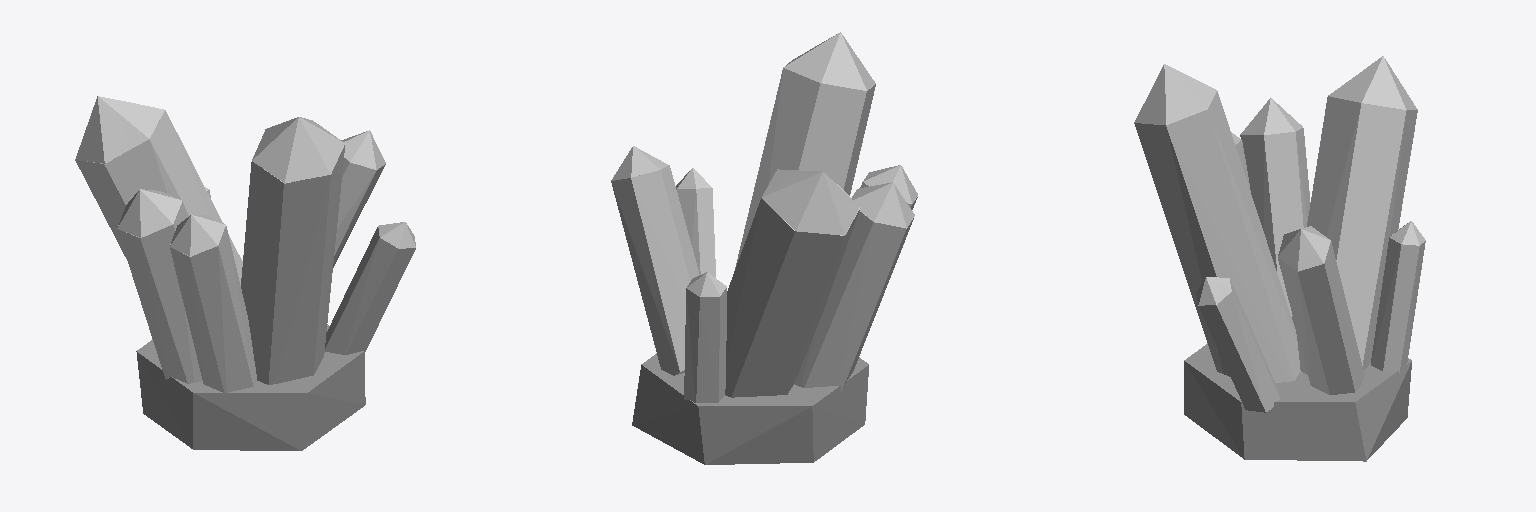
File: solis_crystals.obj
3 renders of one model, left to right at view 1: azimuth 30°, elevation 25°; view 2: azimuth 150°, elevation 25°; view 3: azimuth 270°, elevation 25°, orthographic.
Parts seen in each view (by area): view 1: Cylinder.027_Cylinder.028, Cylinder.029_Cylinder.030, Cylinder.002_Cylinder.005, Cylinder.004_Cylinder.007, Cylinder.003_Cylinder.006, Cylinder.005_Cylinder.008, Cone.001, Cone.005_Cone.007, Cylinder.001_Cylinder.004, Cone.004_Cone.006, Cone.003_Cone.005, Cone.002_Cone.004 (+1 smaller); view 2: Cylinder.004_Cylinder.007, Cylinder.029_Cylinder.030, Cylinder.001_Cylinder.004, Cylinder.027_Cylinder.028, Cylinder.003_Cylinder.006, Cone.005_Cone.007, Cylinder.000_Cylinder.003, Cone.001, Cylinder.005_Cylinder.008, Cone.004_Cone.006, Cone.002_Cone.004, Cone.003_Cone.005 (+1 smaller); view 3: Cylinder.027_Cylinder.028, Cylinder.004_Cylinder.007, Cylinder.029_Cylinder.030, Cylinder.001_Cylinder.004, Cylinder.003_Cylinder.006, Cylinder.000_Cylinder.003, Cylinder.005_Cylinder.008, Cone.001, Cone.005_Cone.007, Cone.002_Cone.004, Cone.004_Cone.006, Cone.006_Cone.008.
Boxes of the visible parts, <box> form: Cylinder.027_Cylinder.028: <box>241,145,344,384</box>; Cylinder.029_Cylinder.030: <box>136,324,365,450</box>; Cylinder.002_Cylinder.005: <box>170,226,256,393</box>; Cylinder.004_Cylinder.007: <box>75,110,242,284</box>; Cylinder.003_Cylinder.006: <box>117,201,202,383</box>; Cylinder.005_Cylinder.008: <box>325,227,415,354</box>; Cone.001: <box>252,117,344,183</box>; Cone.005_Cone.007: <box>75,96,164,163</box>; Cylinder.001_Cylinder.004: <box>333,157,385,267</box>; Cone.004_Cone.006: <box>117,189,182,237</box>; Cone.003_Cone.005: <box>170,215,225,256</box>; Cone.002_Cone.004: <box>341,130,385,169</box>; Cylinder.004_Cylinder.007: <box>725,184,860,397</box>; Cylinder.029_Cylinder.030: <box>632,353,868,464</box>; Cylinder.001_Cylinder.004: <box>611,165,699,375</box>; Cylinder.027_Cylinder.028: <box>735,68,875,268</box>; Cylinder.003_Cylinder.006: <box>794,211,914,391</box>; Cone.005_Cone.007: <box>762,169,859,235</box>; Cylinder.000_Cylinder.003: <box>684,287,726,402</box>; Cone.001: <box>783,32,875,90</box>; Cylinder.005_Cylinder.008: <box>676,188,715,277</box>; Cone.004_Cone.006: <box>852,182,914,227</box>; Cone.002_Cone.004: <box>611,146,668,180</box>; Cone.003_Cone.005: <box>863,165,917,203</box>; Cylinder.027_Cylinder.028: <box>1134,91,1300,382</box>; Cylinder.004_Cylinder.007: <box>1292,96,1417,374</box>; Cylinder.029_Cylinder.030: <box>1184,343,1411,461</box>; Cylinder.001_Cylinder.004: <box>1278,228,1364,394</box>; Cylinder.003_Cylinder.006: <box>1240,128,1310,316</box>; Cylinder.000_Cylinder.003: <box>1371,234,1425,373</box>; Cylinder.005_Cylinder.008: <box>1198,280,1279,412</box>; Cone.001: <box>1134,64,1216,124</box>; Cone.005_Cone.007: <box>1328,56,1417,109</box>; Cone.002_Cone.004: <box>1278,226,1330,271</box>; Cone.004_Cone.006: <box>1240,98,1302,134</box>; Cone.006_Cone.008: <box>1196,277,1231,305</box>.
Bounding box in the file's own units: 0.8439 × 1.08 × 0.768.